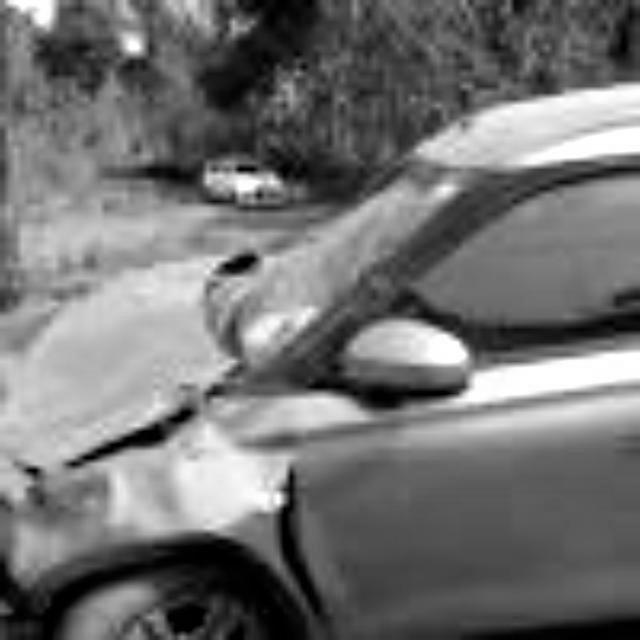bonnet-dent: (6, 230, 230, 454)
fender-dent: (0, 449, 300, 596)
